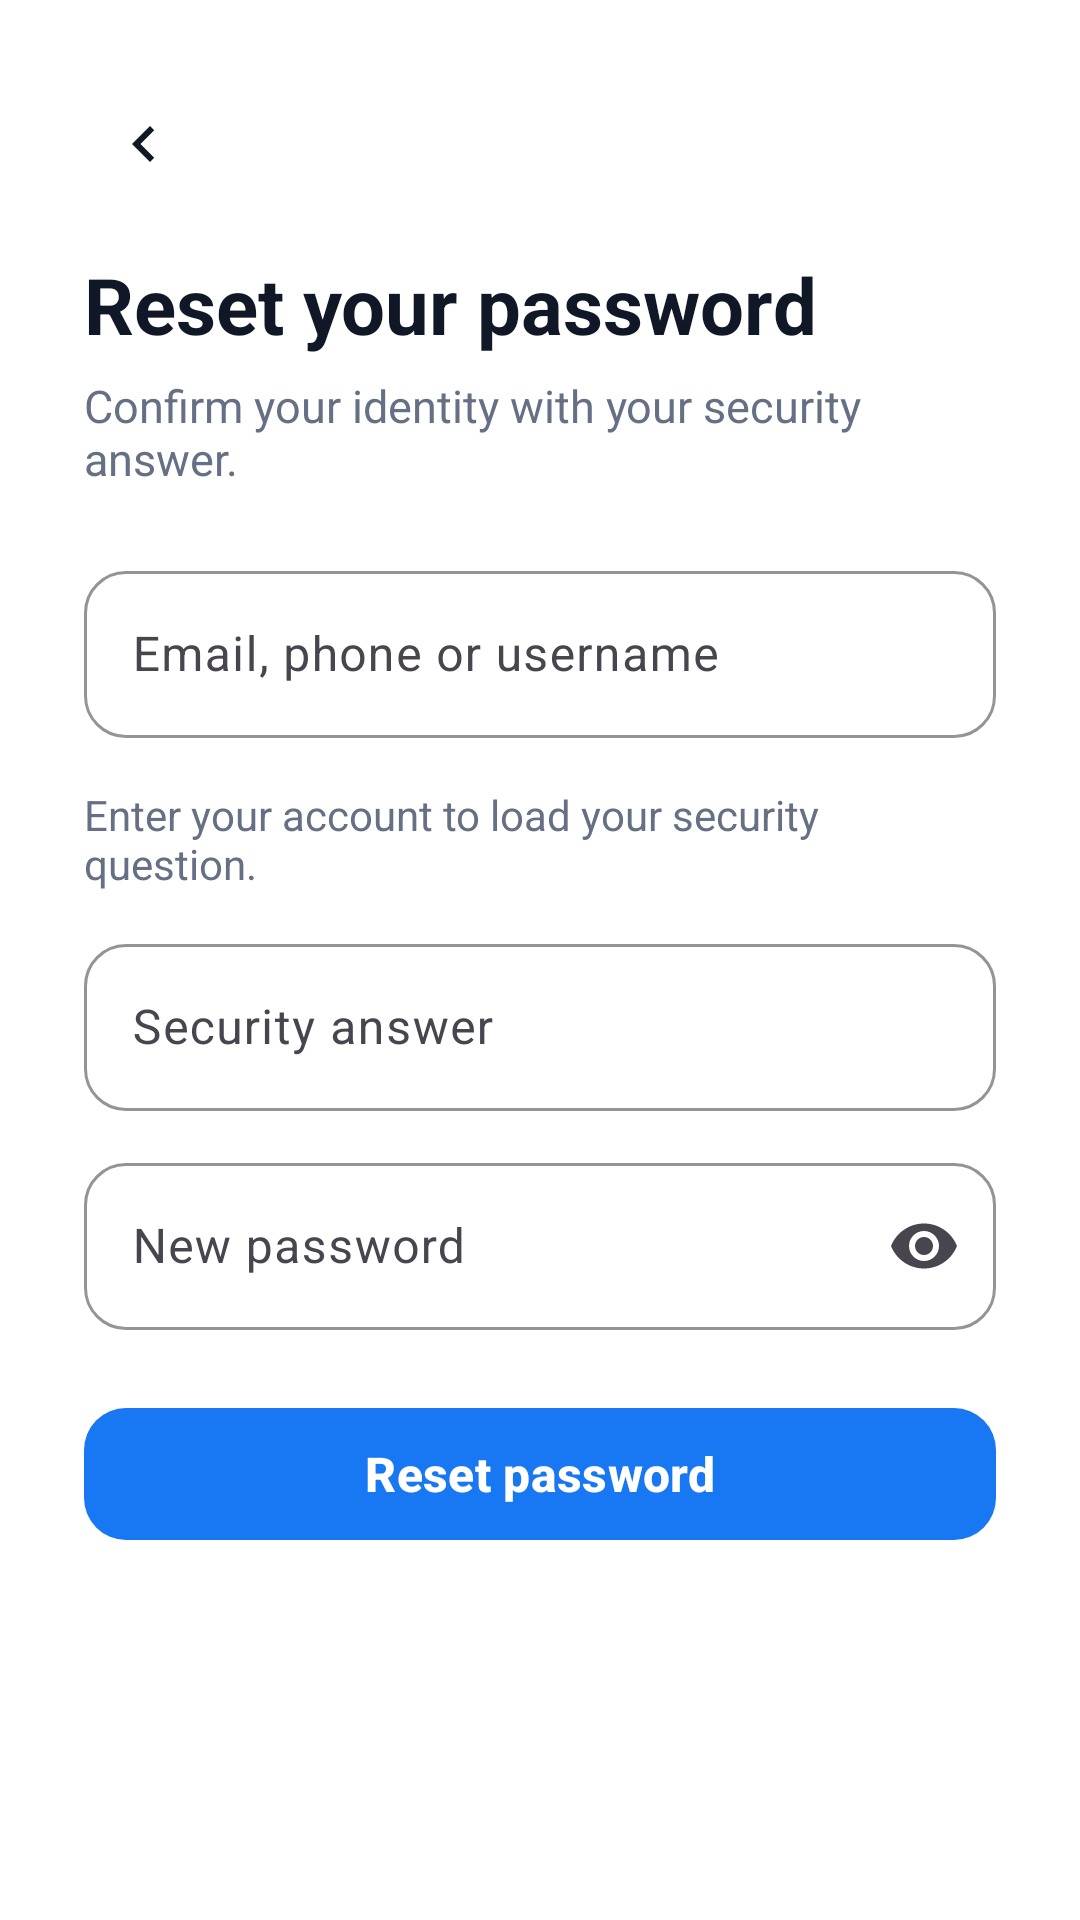

Screen size 1080w x 1920h. Icon name, then its center in pixels as point (x, y):
back: point (143, 144)
